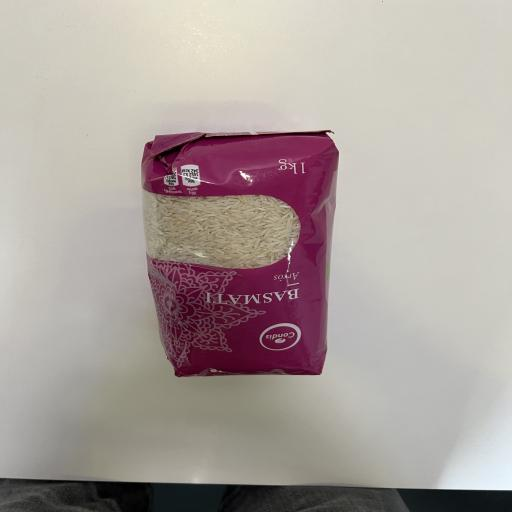rice: (139, 120, 345, 384)
